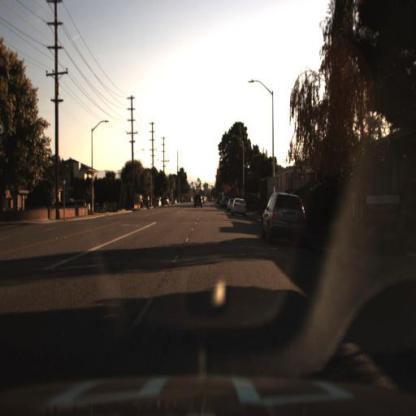car: (257, 191, 309, 255), (232, 194, 253, 218), (191, 192, 207, 212), (226, 194, 235, 213)
